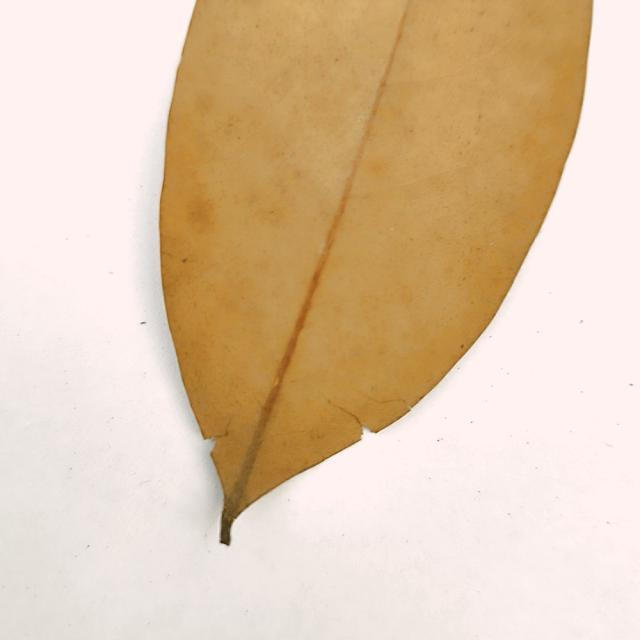Dry_Leaf-Lychee: (158, 0, 596, 546)
